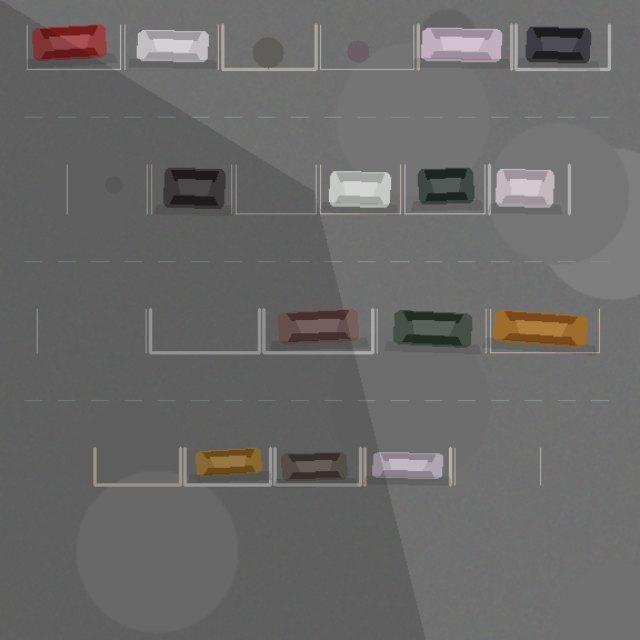space-empty: (37, 309, 146, 352), (150, 309, 259, 352), (222, 24, 316, 69), (320, 24, 413, 69), (67, 164, 147, 213), (236, 164, 316, 213), (94, 448, 180, 484), (454, 448, 540, 484)
space-occupied: (263, 309, 372, 352), (377, 309, 486, 352), (490, 309, 599, 352), (124, 24, 218, 69), (27, 24, 120, 69), (418, 24, 511, 69), (516, 24, 609, 69), (151, 164, 231, 213), (320, 164, 400, 213), (404, 164, 484, 213), (489, 164, 569, 213), (184, 448, 270, 484), (274, 448, 360, 484), (364, 448, 450, 484)
